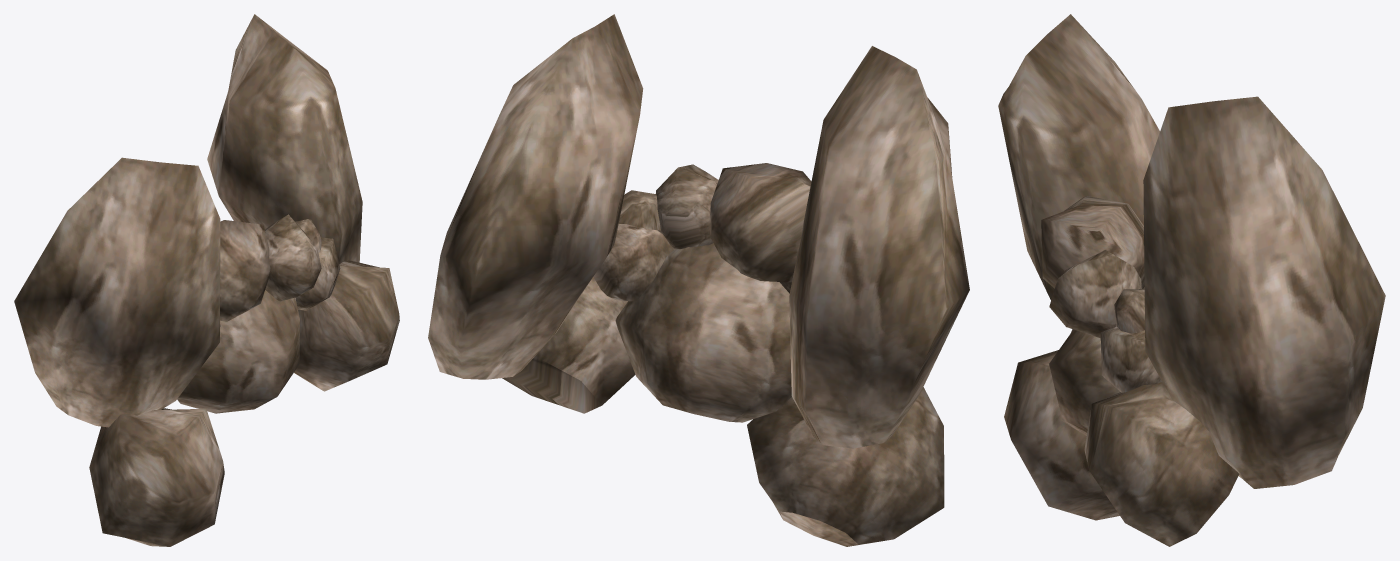
The model's file is CINE12_GANDALFSEALSTHEGOBLINGATE_SHOT04_BOULDERS.fbx.
3 renders of one model, left to right at view 1: azimuth 30°, elevation 25°; view 2: azimuth 150°, elevation 25°; view 3: azimuth 270°, elevation 25°, orthographic. The views are drawn at different scales.
Parts seen in each view (by area): view 1: CINE12_GANDALFSEALSTHEGOBLINGATE_SHOT04_BOULDERS; view 2: CINE12_GANDALFSEALSTHEGOBLINGATE_SHOT04_BOULDERS; view 3: CINE12_GANDALFSEALSTHEGOBLINGATE_SHOT04_BOULDERS.
Part boxes in pixels (x1,y1,x2,y2): CINE12_GANDALFSEALSTHEGOBLINGATE_SHOT04_BOULDERS: (14,14,399,546); CINE12_GANDALFSEALSTHEGOBLINGATE_SHOT04_BOULDERS: (428,14,969,546); CINE12_GANDALFSEALSTHEGOBLINGATE_SHOT04_BOULDERS: (998,14,1385,546).
Bounding box in the file's own units: 35605 × 38544 × 26537.
1 material, 1 textured.
